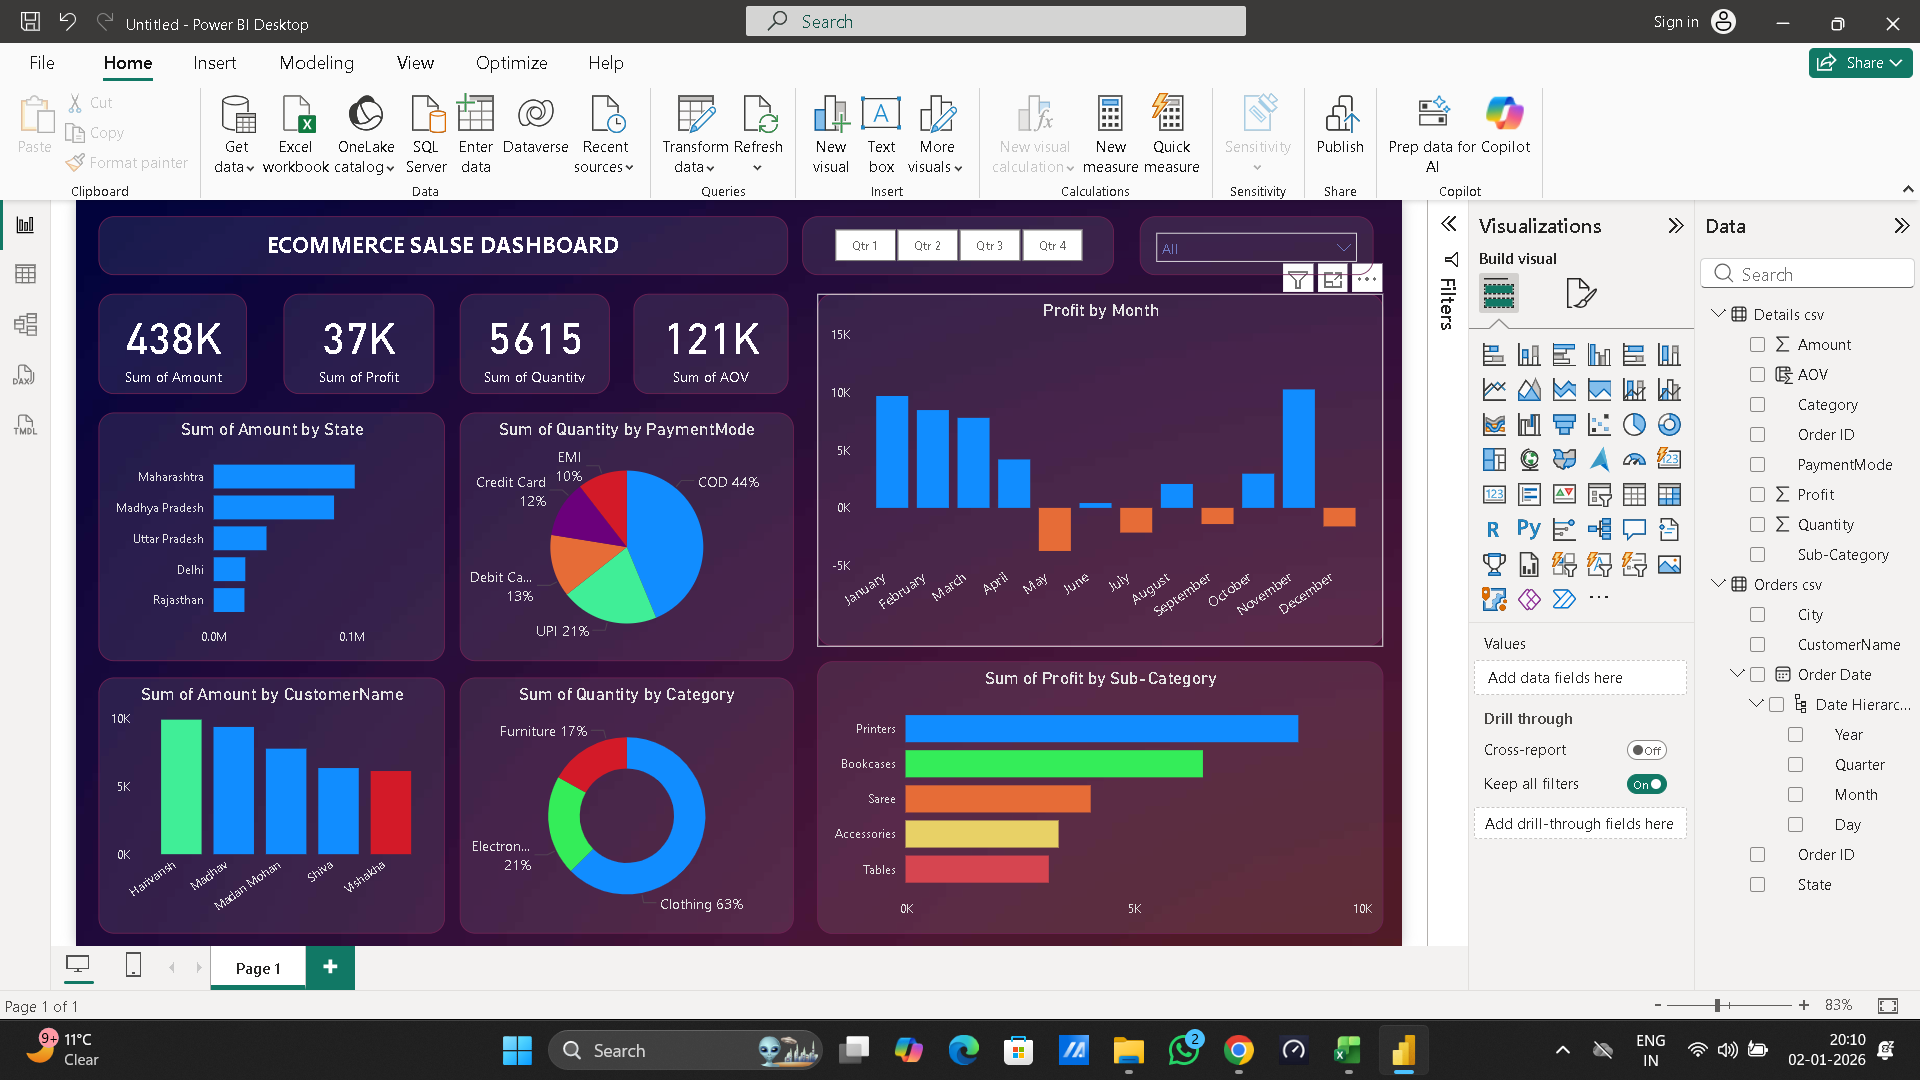

The dashboard page shown, as its layout file describes it:
{"tool":"powerbi","page":{"name":"Page 1","canvas":[1280,720],"ordinal":0},"visuals":[{"type":"textbox","box":[21.7,15.7,666,56.7],"z":0},{"type":"columnChart","title":" Profit by Month","fields":{"Category":["Orders csv.Order Date.Variation.Date Hierarchy.Month"],"Y":["Details csv.Profit"]},"box":[715.4,90.5,546.5,340.2],"z":1000},{"type":"barChart","fields":{"Category":["Details csv.Sub-Category"],"Y":["Details csv.Profit"]},"box":[715.4,445.2,546.5,263],"z":2000},{"type":"donutChart","fields":{"Y":["Details csv.Quantity"],"Category":["Details csv.Category"]},"box":[370.4,460.9,322.1,247.3],"z":3000},{"type":"pieChart","fields":{"Y":["Details csv.Quantity"],"Category":["Details csv.PaymentMode"]},"box":[370.4,205.1,322.1,240.1],"z":4000},{"type":"card","fields":{"Values":["Details csv.Amount"]},"box":[21.7,90.5,143.6,96.5],"z":5000},{"type":"card","fields":{"Values":["Details csv.Quantity"]},"box":[370.4,90.5,144.8,96.5],"z":6000},{"type":"card","fields":{"Values":["Details csv.Profit"]},"box":[200.3,90.5,146,96.5],"z":7000},{"type":"card","fields":{"Values":["Details csv.AOV"]},"box":[538.1,90.5,149.6,96.5],"z":8000},{"type":"barChart","fields":{"Category":["Orders csv.State"],"Y":["Details csv.Amount"]},"box":[21.7,205.1,334.2,240.1],"z":9000},{"type":"columnChart","fields":{"Category":["Orders csv.CustomerName"],"Y":["Details csv.Amount"]},"box":[21.7,460.9,334.2,247.3],"z":10000},{"type":"slicer","fields":{"Values":["Orders csv.Order Date.Variation.Date Hierarchy.Quarter"]},"box":[700.9,15.7,300.4,56.7],"z":11000},{"type":"slicer","fields":{"Values":["Orders csv.State"]},"box":[1026.7,15.7,225.6,56.7],"z":12000}]}

Visuals, with their boxes on the page's 1280x720 design canvas (x1, y1, x2, y2). These are canvas units, not pixel positions in the 1920x1080 screenshot, which may show the page scaled, cropped or inside an application window:
textbox: 22,16,688,72
" Profit by Month" columnChart: 715,90,1262,431
barChart - Details csv.Sub-Category x Details csv.Profit: 715,445,1262,708
donutChart - Details csv.Quantity x Details csv.Category: 370,461,692,708
pieChart - Details csv.Quantity x Details csv.PaymentMode: 370,205,692,445
card - Details csv.Amount: 22,90,165,187
card - Details csv.Quantity: 370,90,515,187
card - Details csv.Profit: 200,90,346,187
card - Details csv.AOV: 538,90,688,187
barChart - Orders csv.State x Details csv.Amount: 22,205,356,445
columnChart - Orders csv.CustomerName x Details csv.Amount: 22,461,356,708
slicer - Orders csv.Order Date.Variation.Date Hierarchy.Quarter: 701,16,1001,72
slicer - Orders csv.State: 1027,16,1252,72
